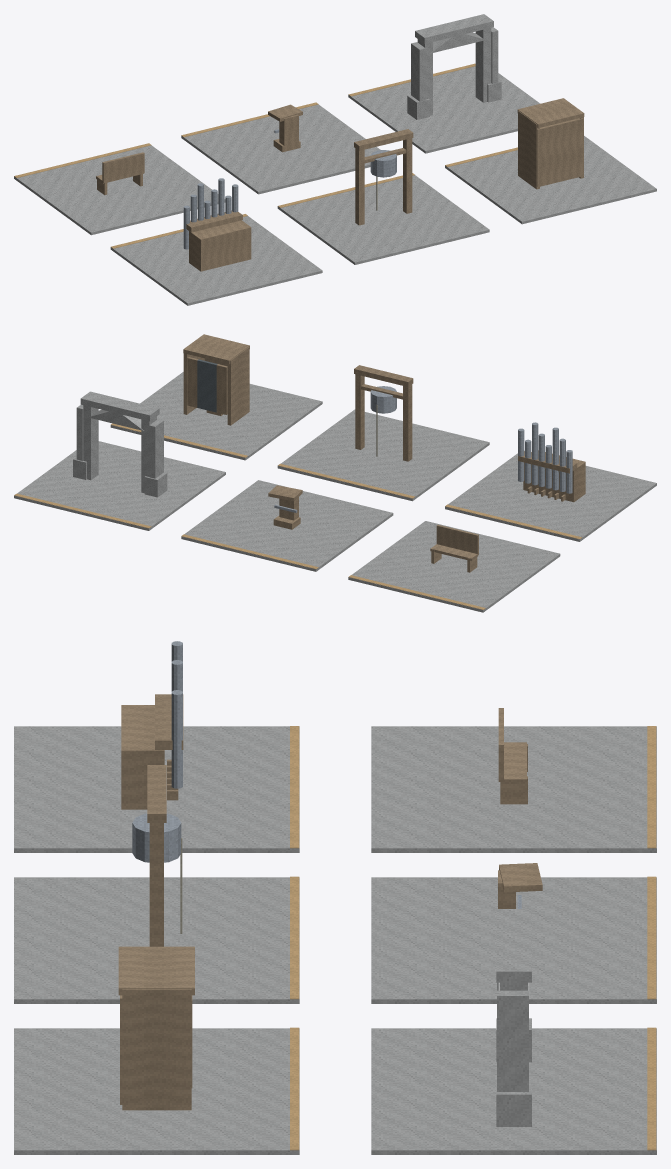
The model's file is level_blockout_kit_church_p01.glb.
3 renders of one model, top to bottom at view 1: azimuth 30°, elevation 25°; view 2: azimuth 150°, elevation 25°; view 3: azimuth 270°, elevation 25°, orthographic. The views are drawn at different scales.
Visible parts, largest first — view 1: level_blockout_kit_church_p01; view 2: level_blockout_kit_church_p01; view 3: level_blockout_kit_church_p01.
Boxes of the visible parts, x1,y1,x2,y2 form: level_blockout_kit_church_p01: (14, 14, 656, 305); level_blockout_kit_church_p01: (14, 334, 656, 612); level_blockout_kit_church_p01: (14, 641, 656, 1154).
Size of the model in its own units: 19.65 by 3.32 by 12.6.
Materials: 6 (6 with a texture image).
